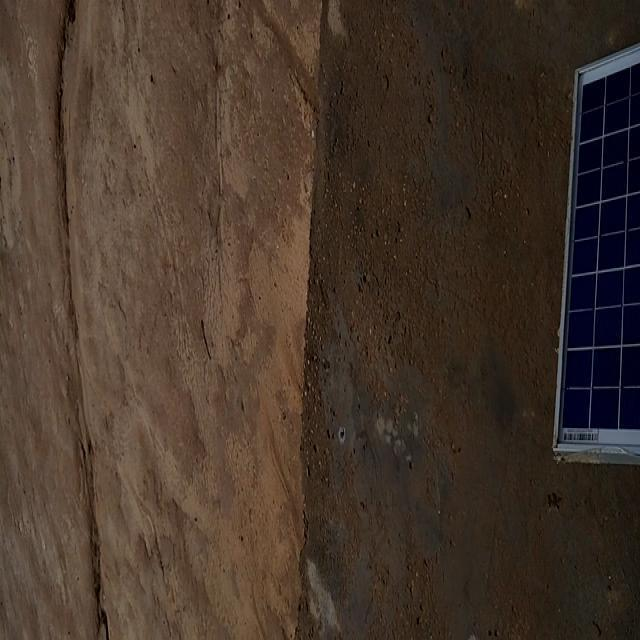Normal Solar Panel: (555, 43, 640, 465)
